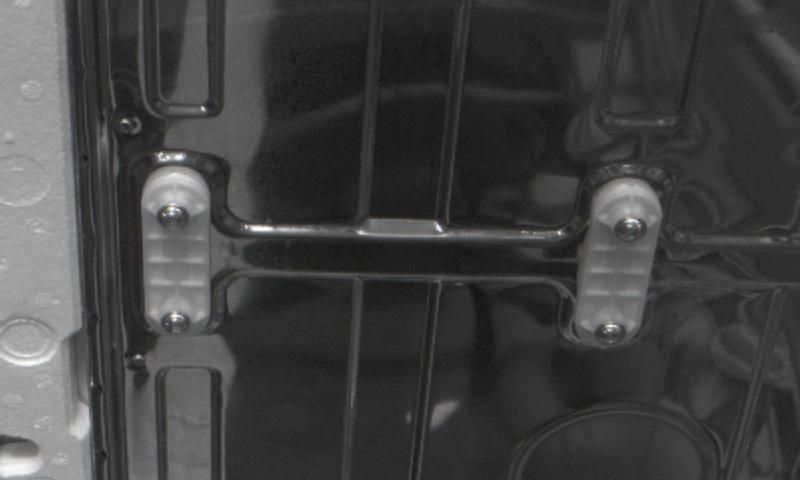vida-ok: (593, 316, 633, 358), (612, 211, 652, 251), (155, 305, 194, 343), (156, 199, 192, 238)
